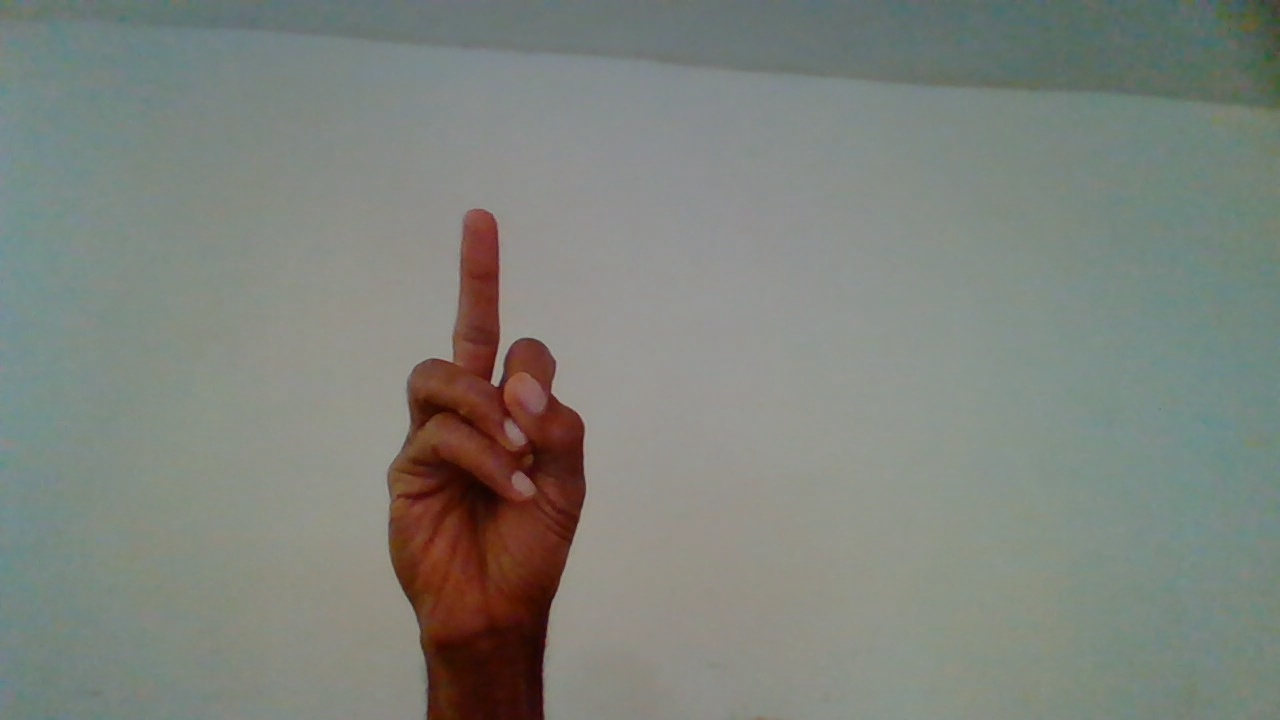he: (387, 197, 585, 720)
